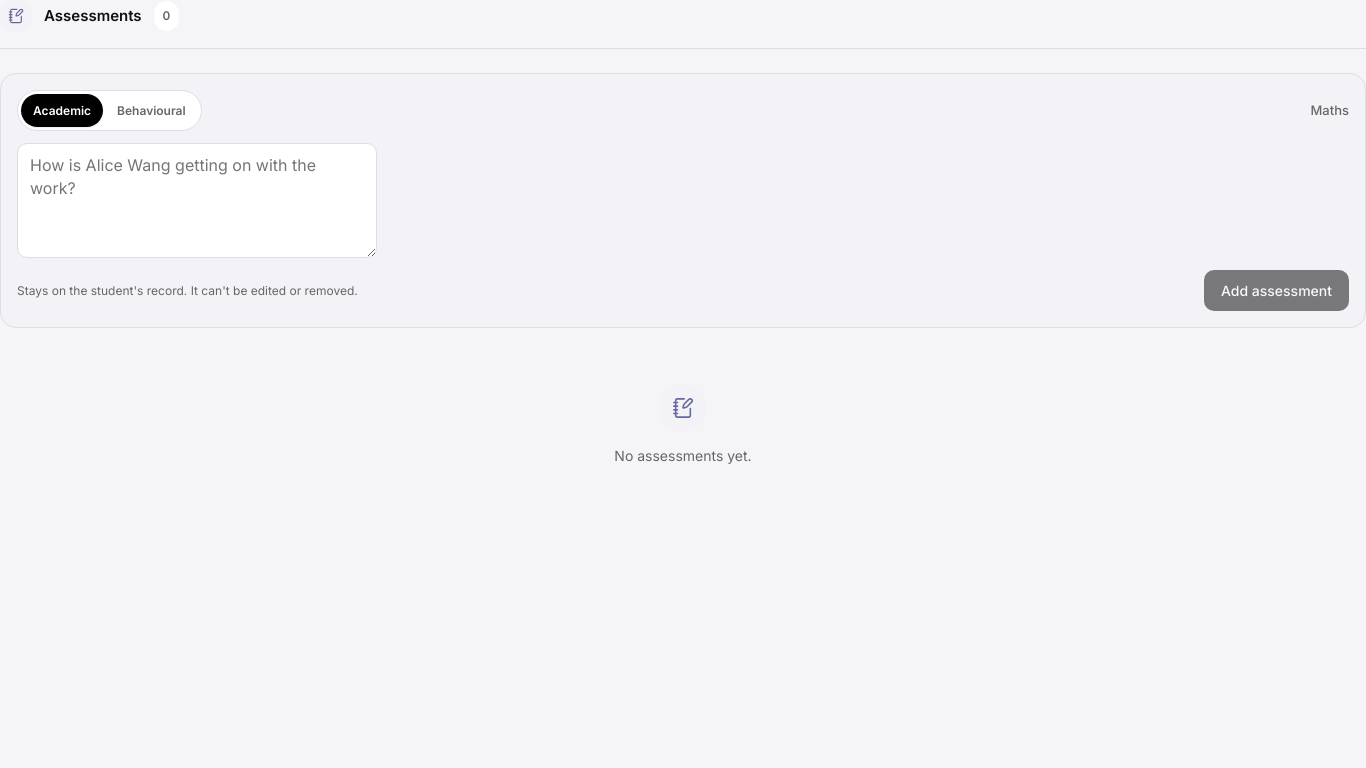
Test case: StudentAssessments › shows the server's refusal and keeps what was typed
Expected: the text "No assessments yet." is shown, [614,444,752,467]
Type "Draft" into the text box named "Comment on Alice Wang" at [197, 201], box [17,143,377,258]
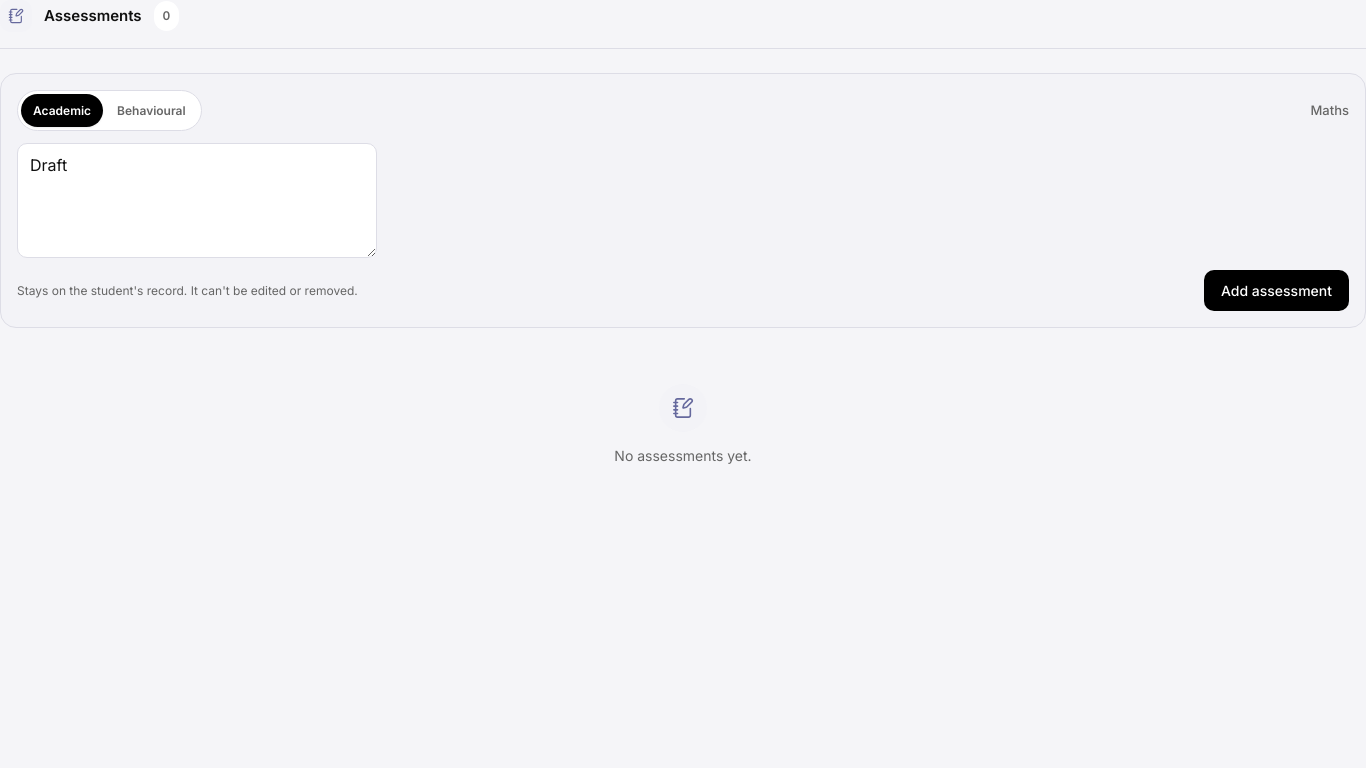
Click the button "Add assessment" at [1276, 291], box [1204,270,1349,311]
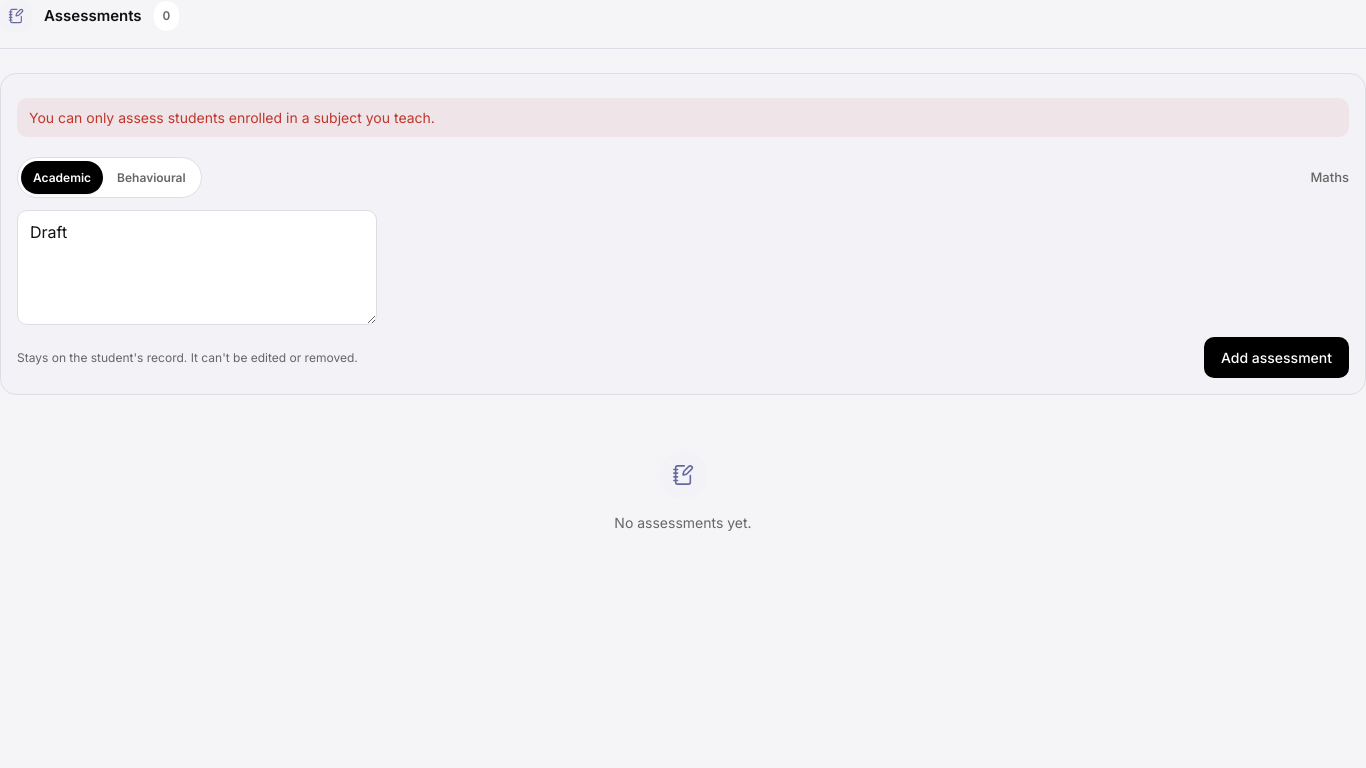
Expected: the list item "You can only assess students enrolled in a subject you teach." is shown, [29,109,435,126]
